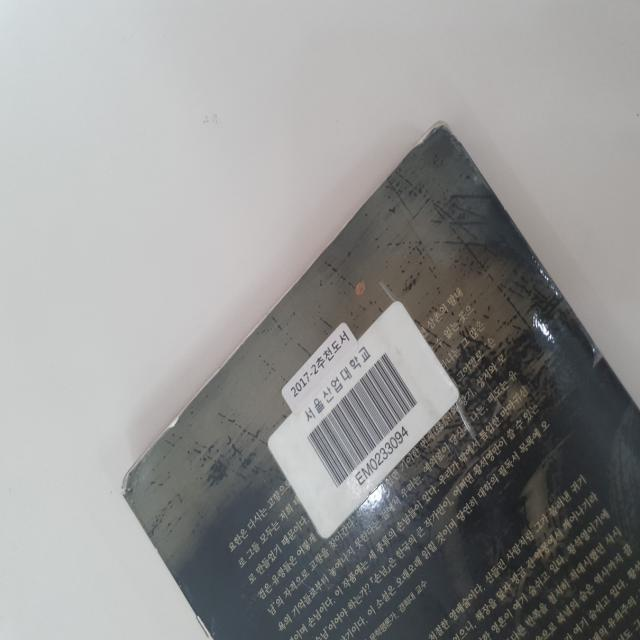Ripped: (401, 111, 468, 165)
Wornout: (151, 378, 213, 447), (118, 445, 154, 510), (194, 613, 219, 639)
